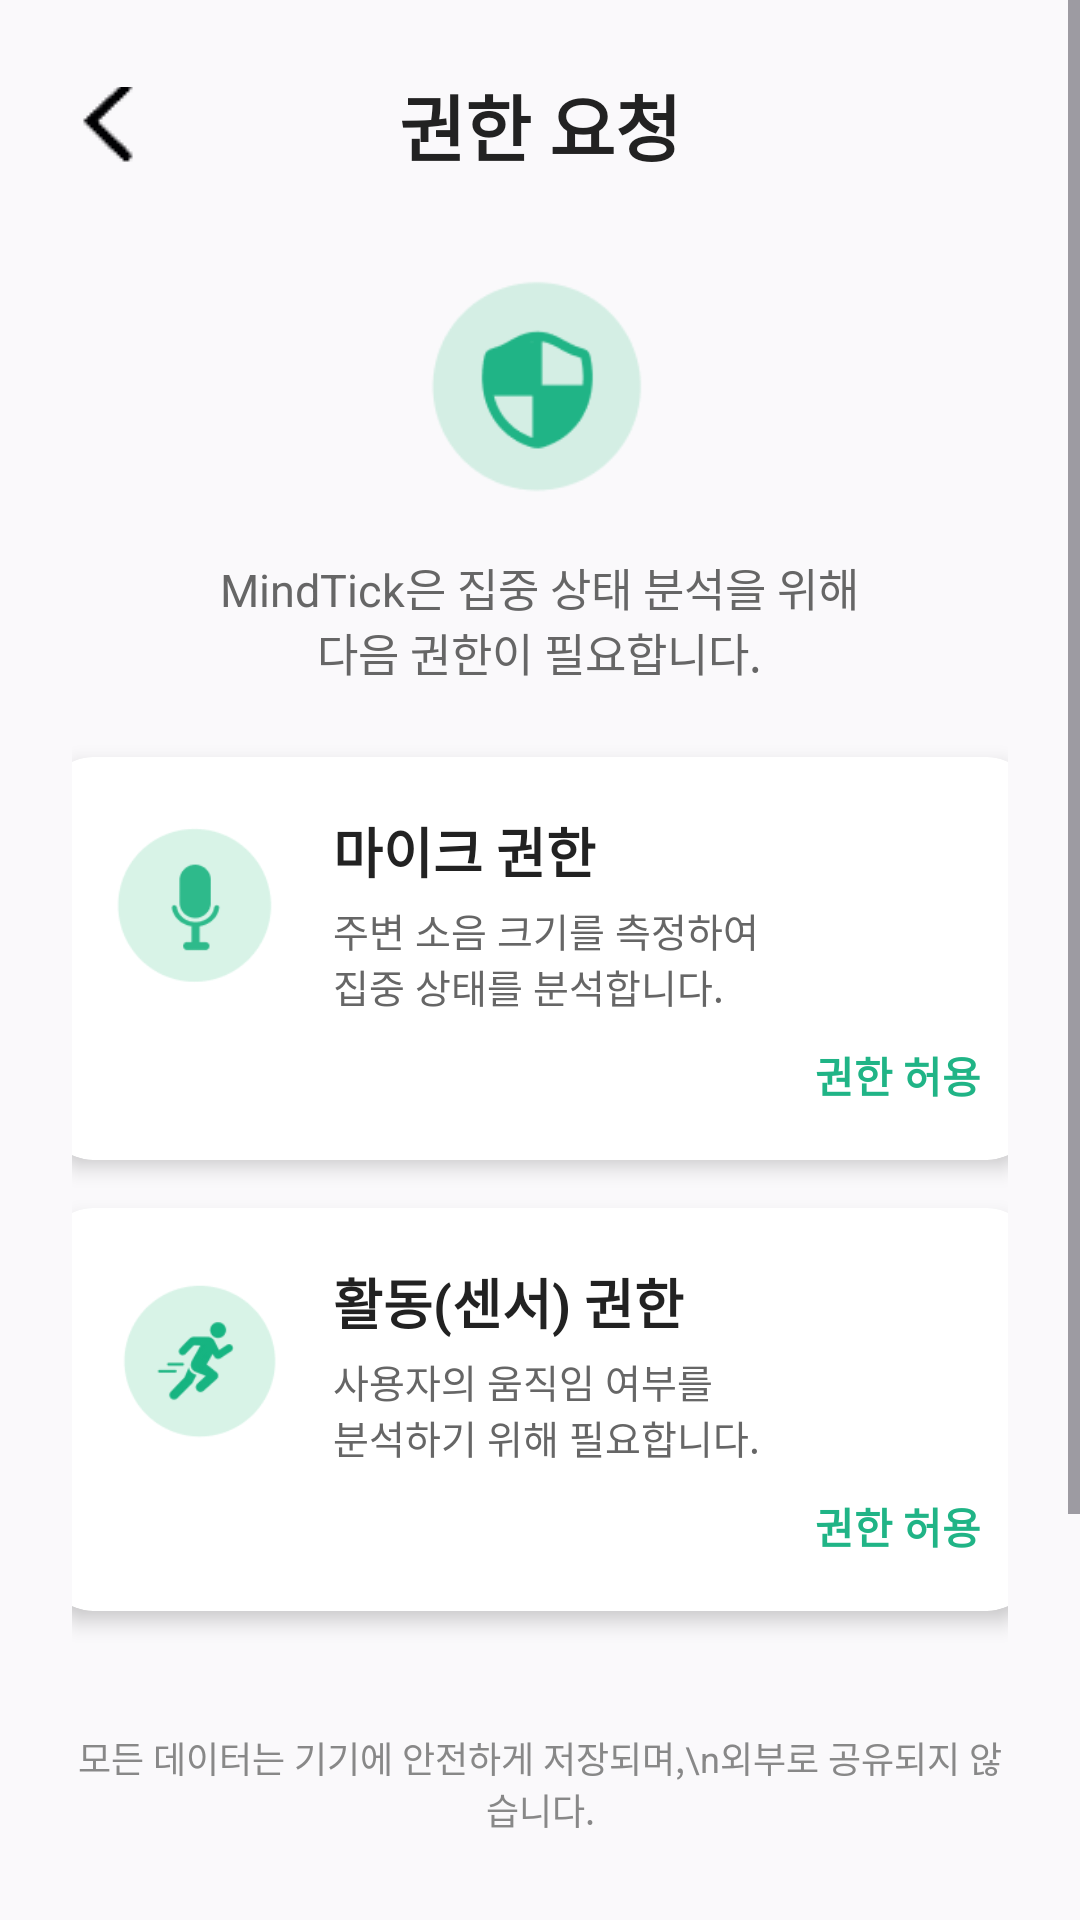

Point at icon controls on the screen. Image size 1080px×1920px, points as (x,y).
activity: (200,1361)
back: (108,124)
microphone: (195,905)
permission: (536,386)
